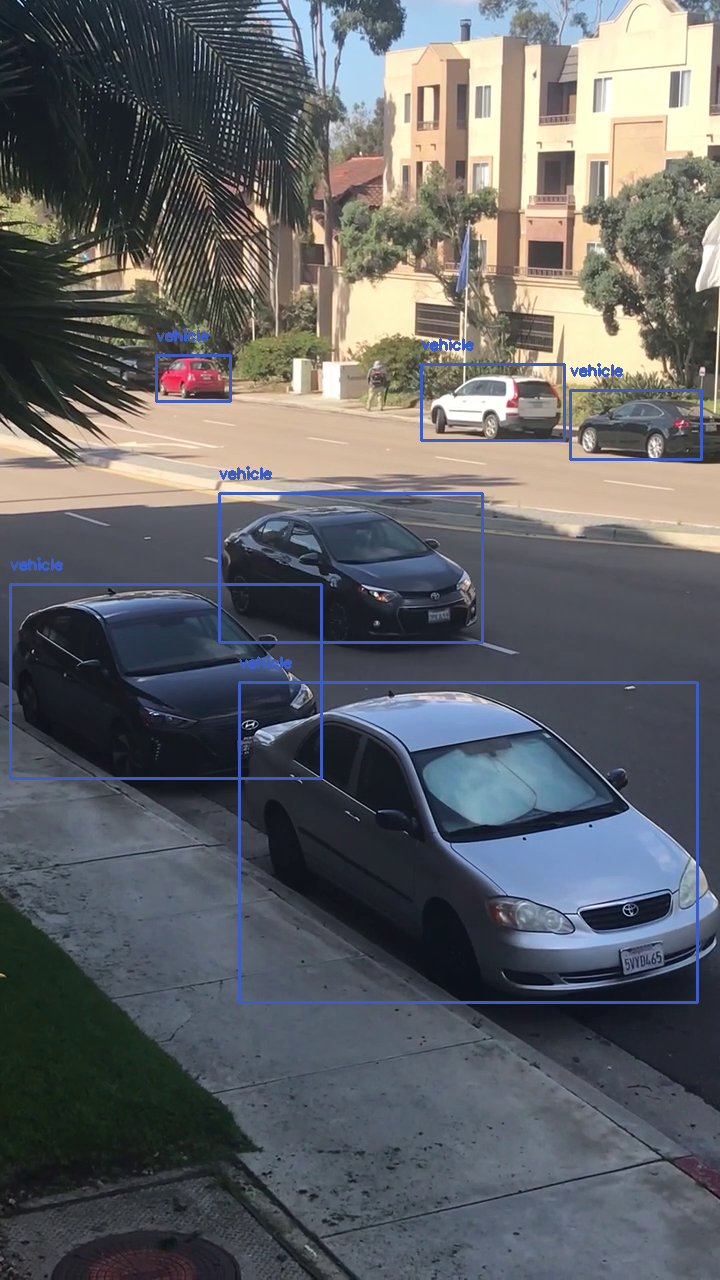vehicle: (239, 682, 697, 1002), (10, 584, 321, 778), (219, 493, 482, 642), (421, 364, 564, 440), (570, 390, 701, 459), (156, 355, 230, 401)
